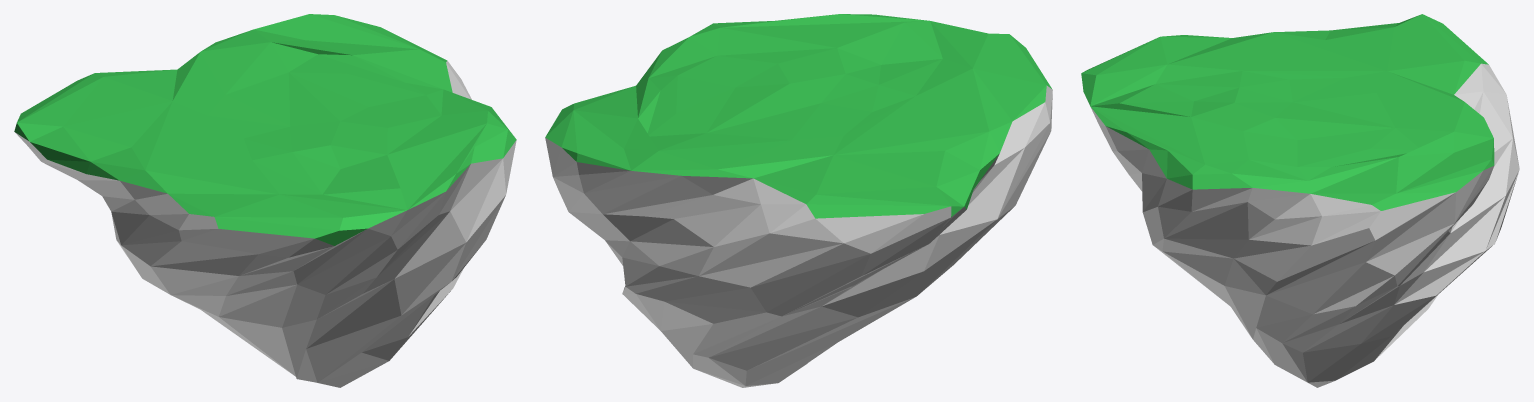
The model's file is island_4.fbx.
3 renders of one model, left to right at view 1: azimuth 30°, elevation 25°; view 2: azimuth 150°, elevation 25°; view 3: azimuth 270°, elevation 25°, orthographic. The views are drawn at different scales.
Parts seen in each view (by area): view 1: Plane; view 2: Plane; view 3: Plane.
Boxes of the visible parts, bbox=[...] form: Plane: bbox=[14, 14, 516, 387]; Plane: bbox=[545, 14, 1052, 387]; Plane: bbox=[1081, 14, 1519, 387].
Size of the model in its own units: 3219 by 2149 by 3251.
